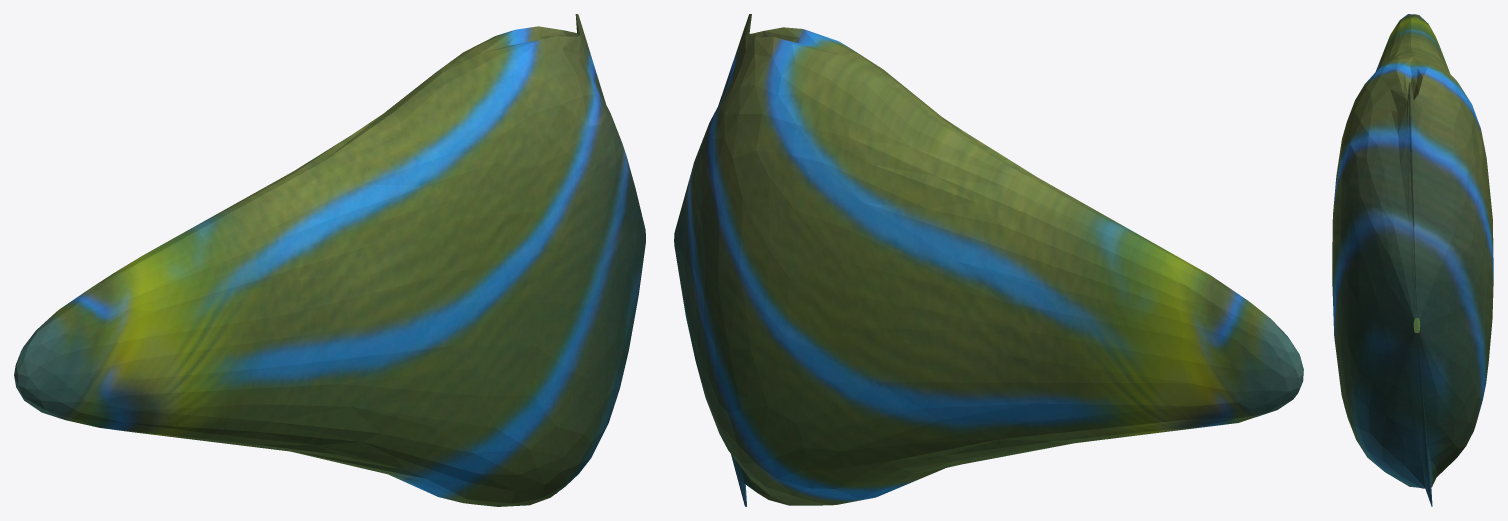
Rendered from Fish3_2.dae.
3 renders of one model, left to right at view 1: azimuth 30°, elevation 25°; view 2: azimuth 150°, elevation 25°; view 3: azimuth 270°, elevation 25°, orthographic. The views are drawn at different scales.
Parts seen in each view (by area): view 1: Cube; view 2: Cube; view 3: Cube.
Part boxes in pixels (x1,y1,x2,y2): Cube: [14, 14, 645, 506]; Cube: [674, 14, 1303, 506]; Cube: [1332, 14, 1493, 506].
Size of the model in its own units: 15.95 by 4.02 by 11.74.
Materials: 1 (1 with a texture image).
